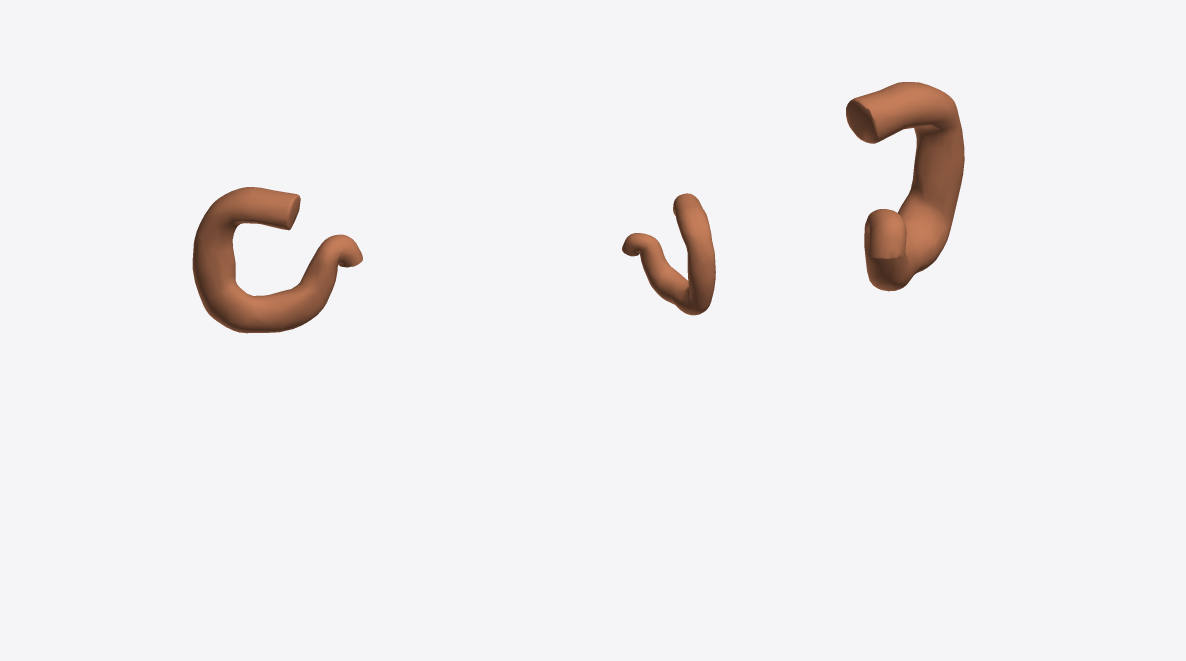
The model's file is duodenum.glb.
3 renders of one model, left to right at view 1: azimuth 30°, elevation 25°; view 2: azimuth 150°, elevation 25°; view 3: azimuth 270°, elevation 25°, orthographic. The views are drawn at different scales.
Visible parts, largest first — view 1: duodenum; view 2: duodenum; view 3: duodenum.
Part boxes in pixels (x1=…): duodenum: x1=192, y1=187, x2=362, y2=333; duodenum: x1=622, y1=193, x2=715, y2=315; duodenum: x1=846, y1=82, x2=964, y2=291.
Bounding box in the file's own units: 0.2441 × 0.4258 × 0.191.
